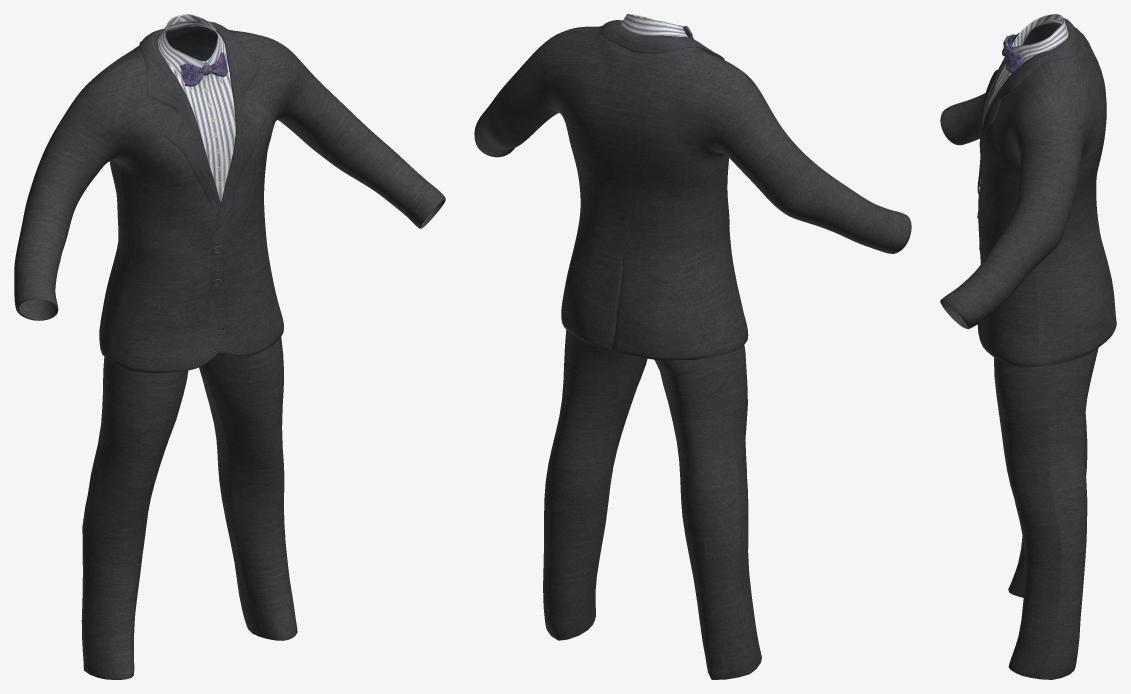
The model's file is toigo-suit-with-jacket-and-bowtie.glb.
3 renders of one model, left to right at view 1: azimuth 30°, elevation 25°; view 2: azimuth 150°, elevation 25°; view 3: azimuth 270°, elevation 25°, orthographic. The views are drawn at different scales.
Visible parts, largest first — view 1: suit with jacket and bowtie; view 2: suit with jacket and bowtie; view 3: suit with jacket and bowtie.
Part boxes in pixels (x1,y1,x2,y2): suit with jacket and bowtie: (14,14,445,679); suit with jacket and bowtie: (474,14,911,679); suit with jacket and bowtie: (940,14,1116,679).
Bounding box in the file's own units: 106 × 149 × 38.94.
1 material, 1 textured.
